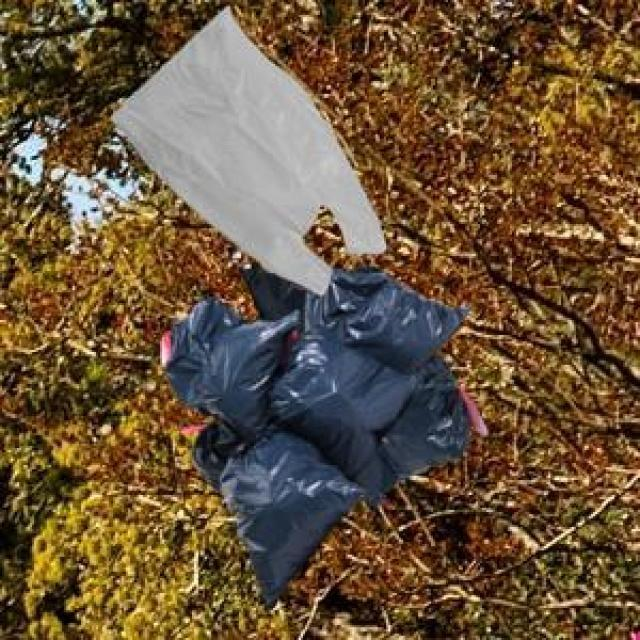miscellaneous trash: (156, 265, 464, 604), (107, 2, 382, 290), (238, 262, 482, 506)
